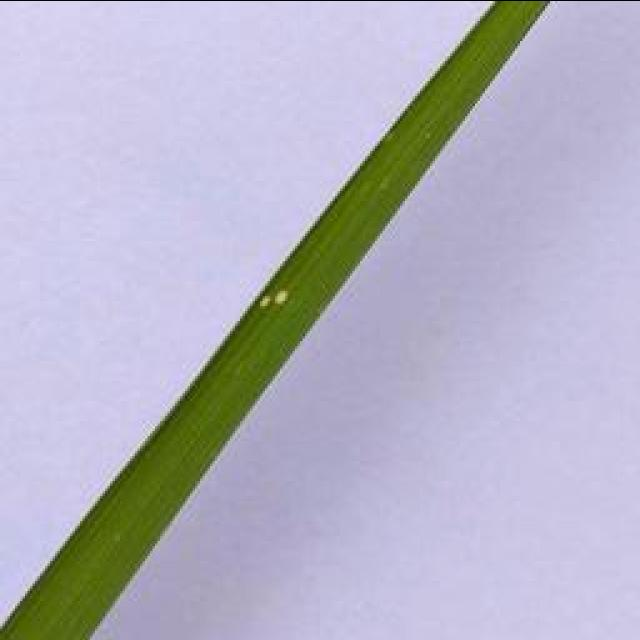Unhealthy: (258, 292, 274, 311), (275, 287, 290, 305)
